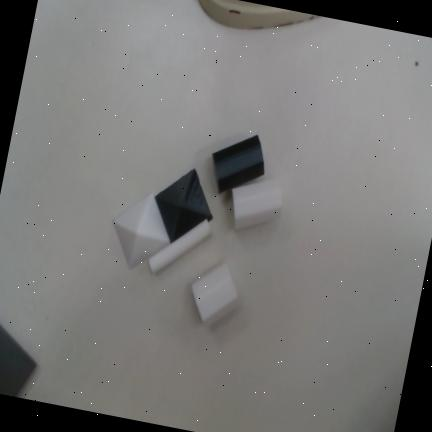Cilindro: (147, 219, 211, 273)
Piramide: (154, 168, 213, 245), (111, 194, 169, 270)
Prisma_hexagonal: (191, 257, 242, 330), (211, 135, 264, 194), (231, 178, 284, 231)
